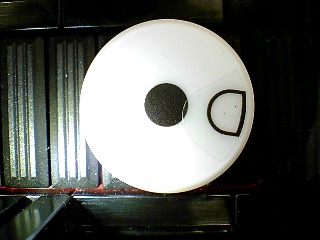BOHOMIPO1: (78, 19, 255, 193)
